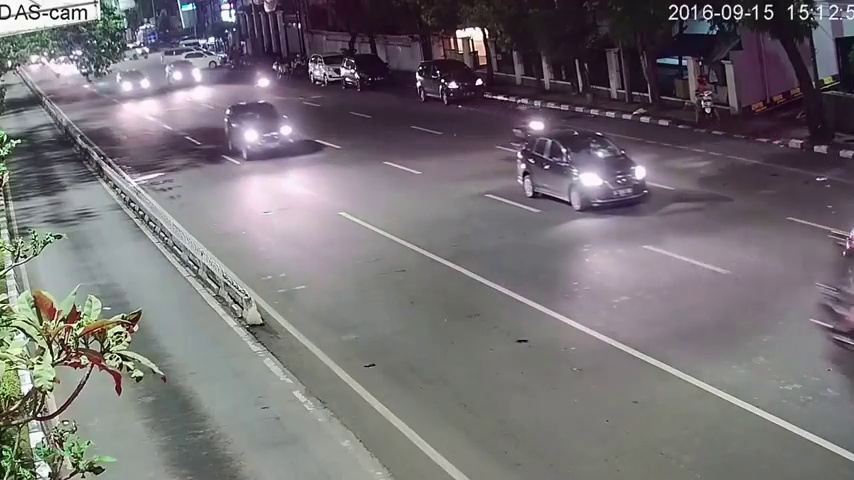car: (520, 131, 646, 214), (222, 101, 292, 164), (417, 61, 485, 103), (342, 52, 387, 91), (308, 52, 346, 89), (165, 60, 200, 92), (115, 70, 148, 99), (182, 50, 224, 69)
motorbike: (697, 76, 720, 130)
